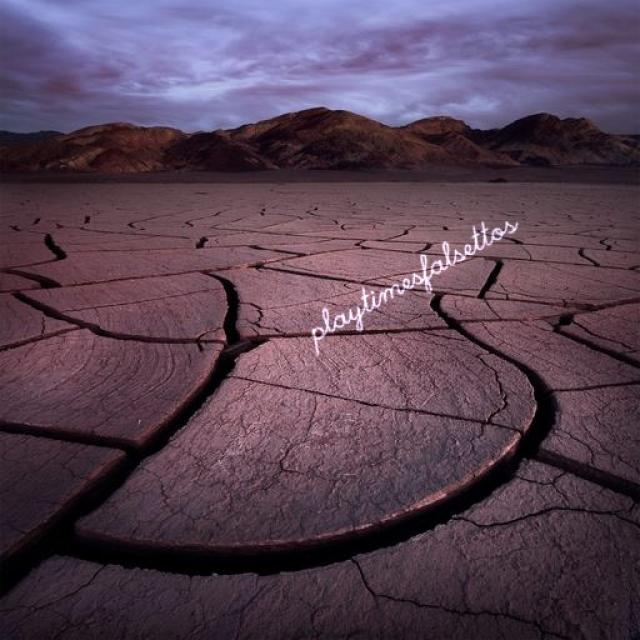watermark: (307, 201, 519, 346)
